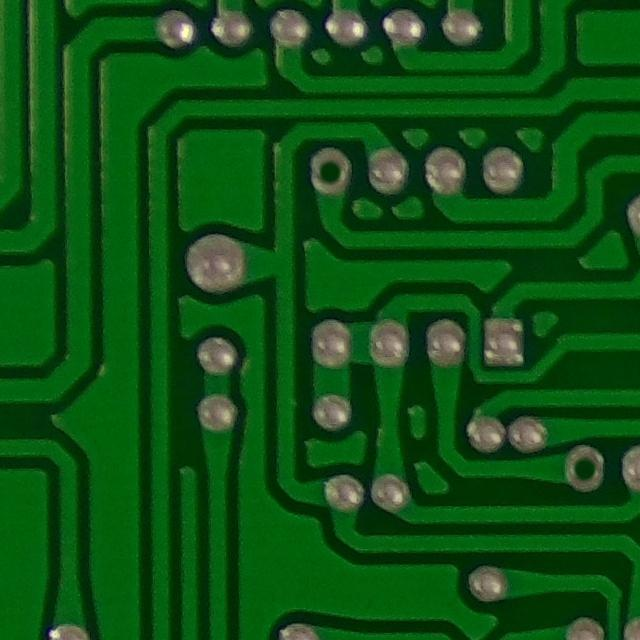missing_hole: (553, 438, 617, 504), (300, 143, 364, 202)
